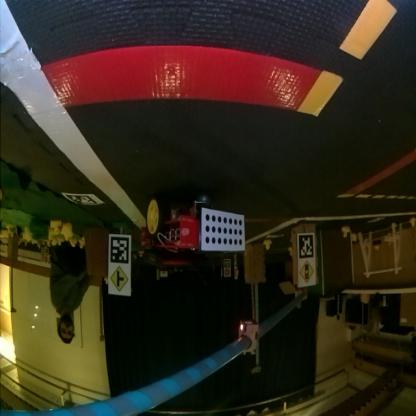Duckie: (51, 221, 63, 236)
Duckiebot: (142, 198, 246, 260)
Intersection sign: (110, 266, 130, 293)
QR code: (111, 236, 129, 264), (64, 194, 104, 206), (299, 235, 315, 259)
Signal sign: (299, 262, 317, 286)
Traffic light: (239, 320, 258, 355)
